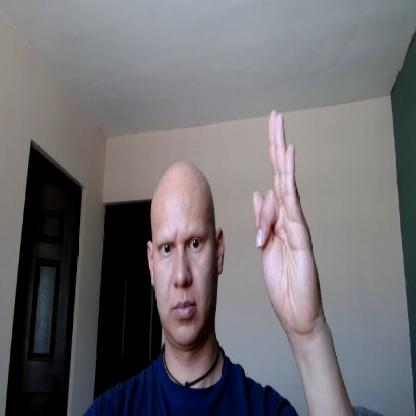F: (252, 109, 317, 332)
